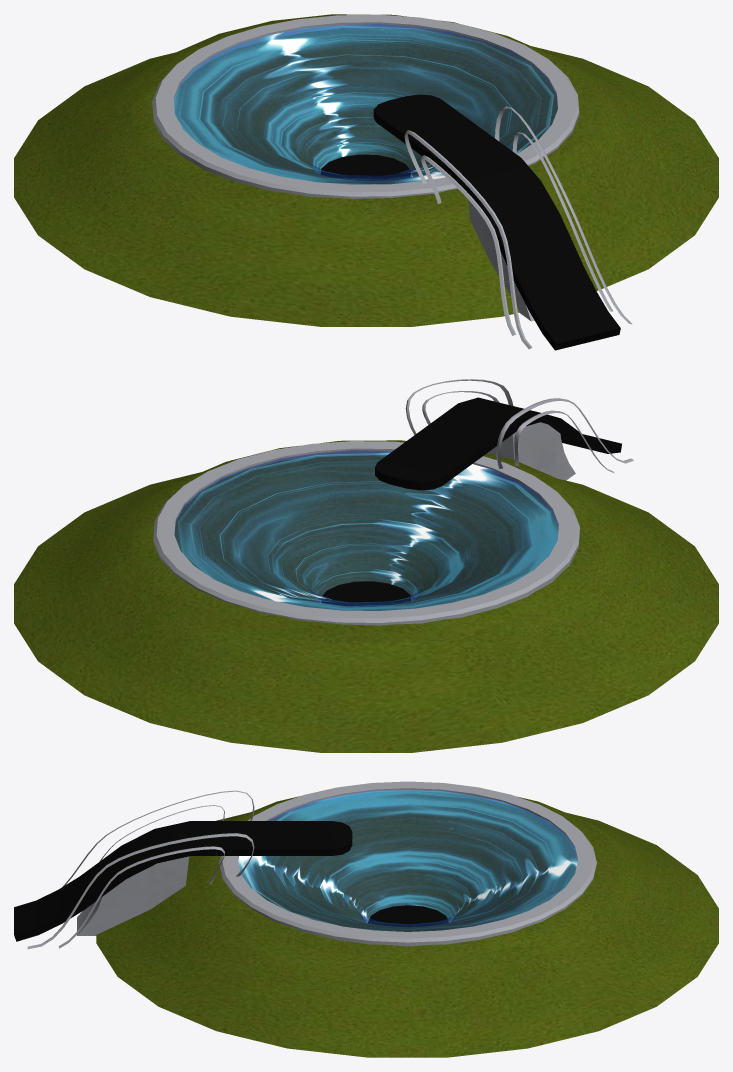
Rendered from ubs_ext_whirlpool.gltf.
3 renders of one model, top to bottom at view 1: azimuth 30°, elevation 25°; view 2: azimuth 150°, elevation 25°; view 3: azimuth 270°, elevation 25°, orthographic. The views are drawn at different scales.
Parts seen in each view (by area): view 1: Mound, Portal_loop, Diving_board, Rim, Diving_board_railing, Cube.005; view 2: Mound, Portal_loop, Rim, Diving_board, Cube.005, Diving_board_railing; view 3: Mound, Portal_loop, Diving_board, Rim, Cube.005, Diving_board_railing.
Part boxes in pixels (x1=…): Mound: x1=14, y1=14, x2=718, y2=326; Portal_loop: x1=174, y1=24, x2=557, y2=184; Diving_board: x1=373, y1=94, x2=620, y2=350; Rim: x1=152, y1=14, x2=579, y2=198; Diving_board_railing: x1=404, y1=106, x2=632, y2=349; Cube.005: x1=468, y1=200, x2=534, y2=321; Mound: x1=14, y1=440, x2=718, y2=752; Portal_loop: x1=174, y1=450, x2=558, y2=610; Rim: x1=153, y1=441, x2=579, y2=625; Diving_board: x1=375, y1=397, x2=621, y2=490; Cube.005: x1=487, y1=422, x2=575, y2=480; Diving_board_railing: x1=405, y1=379, x2=633, y2=472; Mound: x1=96, y1=791, x2=718, y2=1057; Portal_loop: x1=238, y1=790, x2=577, y2=931; Diving_board: x1=14, y1=821, x2=352, y2=941; Rim: x1=219, y1=781, x2=596, y2=946; Cube.005: x1=77, y1=856, x2=189, y2=935; Diving_board_railing: x1=27, y1=790, x2=254, y2=949.
Size of what is drawn, in the model's own units: 15.74 by 3.23 by 17.82.
Materials: 5 (3 with a texture image).
